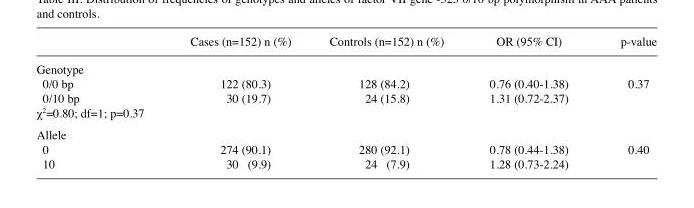table: (35, 35, 656, 170)
table column: (309, 35, 466, 170), (166, 35, 309, 170), (35, 35, 166, 170), (466, 35, 593, 170), (593, 35, 656, 170)
table column header: (35, 35, 656, 55)
table projected row header: (35, 55, 656, 76), (35, 105, 656, 124), (35, 124, 656, 142)
table row: (35, 55, 656, 76), (35, 35, 656, 55), (35, 105, 656, 124), (35, 124, 656, 142), (35, 76, 656, 91), (35, 142, 656, 157), (35, 91, 656, 105), (35, 157, 656, 170)
